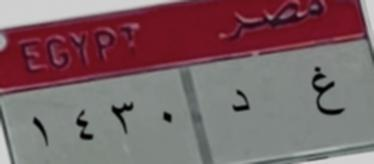0: (154, 94, 190, 132)
1: (26, 99, 56, 152)
3: (110, 93, 140, 139)
4: (68, 100, 101, 148)
daal: (224, 79, 256, 122)
ghayn: (306, 57, 347, 126)
